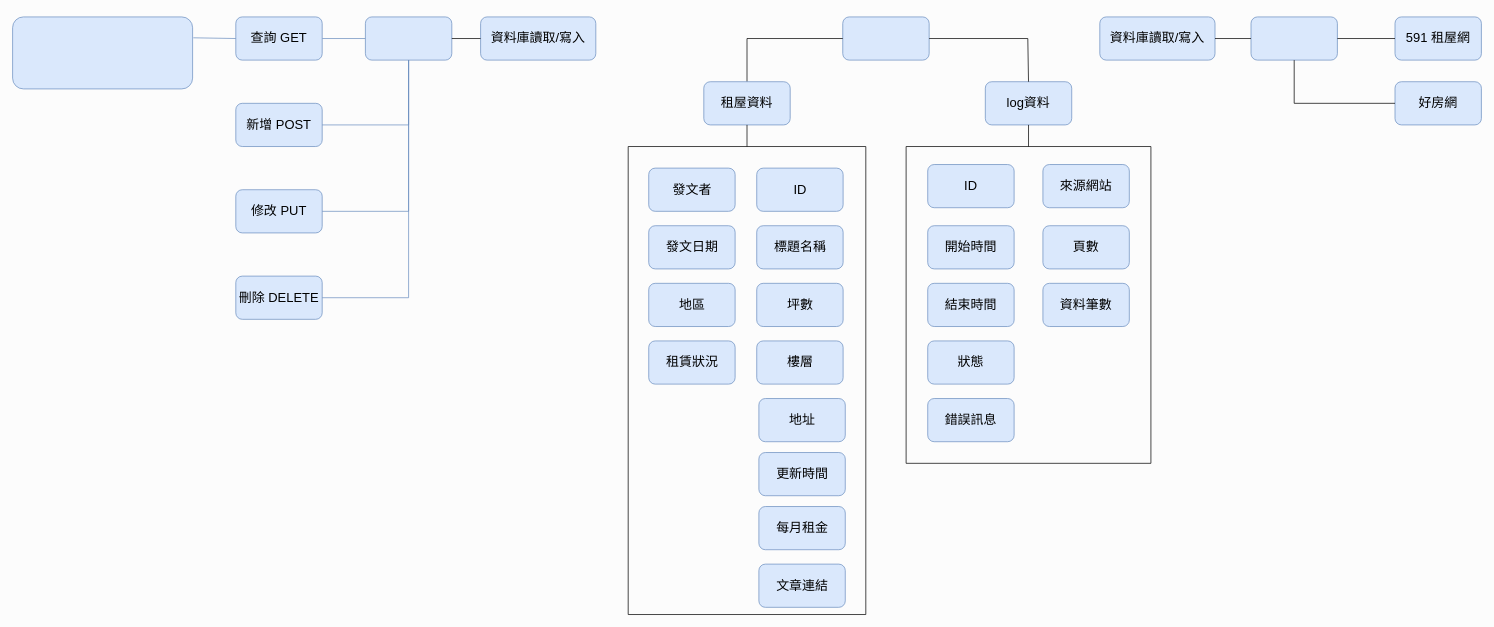
Some shapes in this 1494 by 627 pixel diagram are drawn without their labels. The shapes that lost their labels are listed below. From the top down, each one's box as (x1, y1, x2, y2) in pixels, then its label:
(12, 16, 193, 89): 最新的資料 指定 id 文章的詳細資料 指定條件下的統計資訊
(365, 16, 452, 60): API (FastAPI)
(842, 16, 929, 60): 資料庫 (MySQL)
(1250, 16, 1337, 60): 爬蟲(Selenium)
